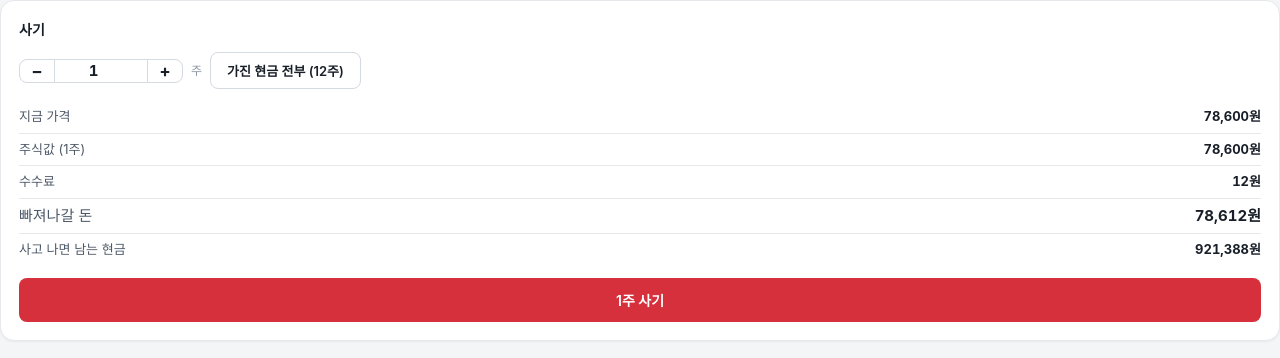
Test: BuyPanel 예상금액 › 수량을 바꾸면 수수료 포함 금액이 즉시 다시 계산된다
Check: the text with test id "buy-total" reads "78,612원", box 1195,206 -> 1261,224
Replace the text in the number field named "살 수량" with "10" at coordinates (101, 70), box 55,58 -> 147,82
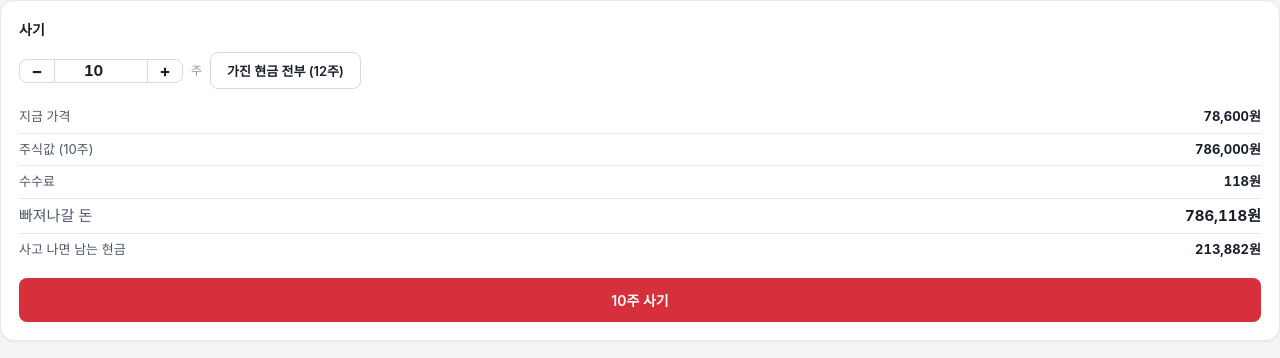
Check: the text with test id "buy-total" reads "786,118원", box 1185,206 -> 1261,224
